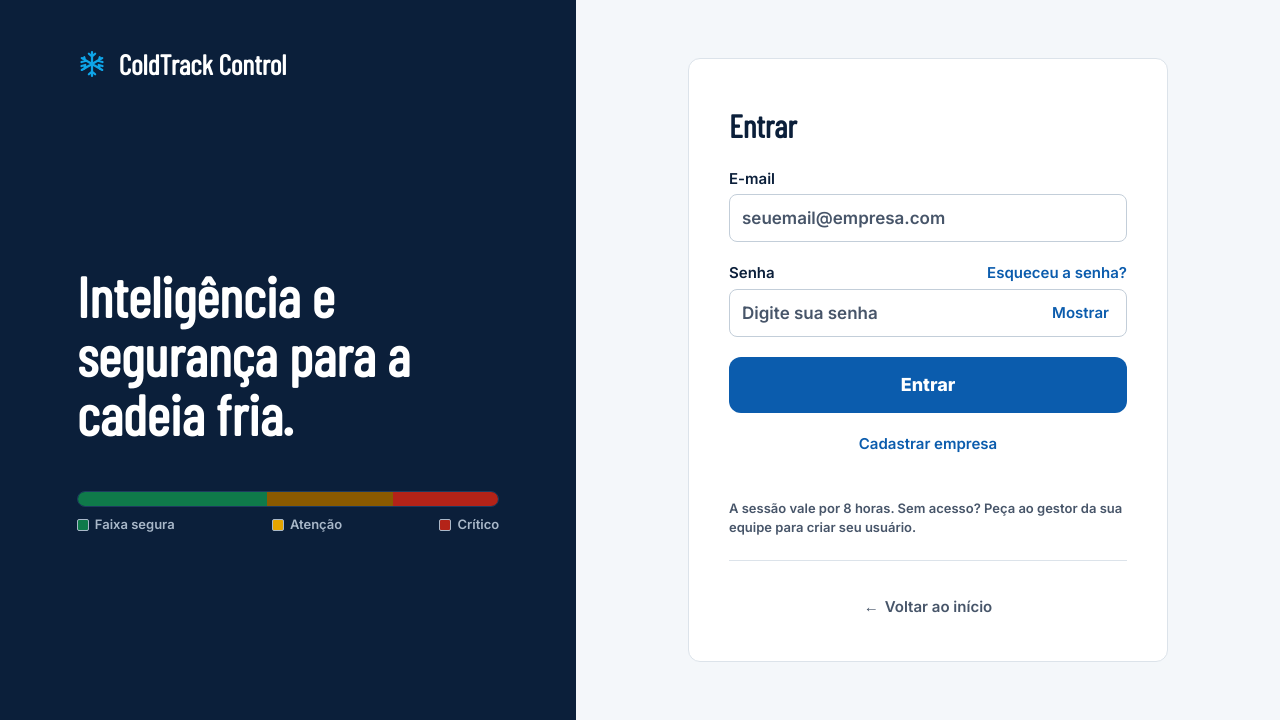
Test: Login › senha vazia: pede a senha
Type "ana@empresa.com" into the field labelled "E-mail" at (928, 218), box top-left (729, 194), bottom-right (1127, 242)
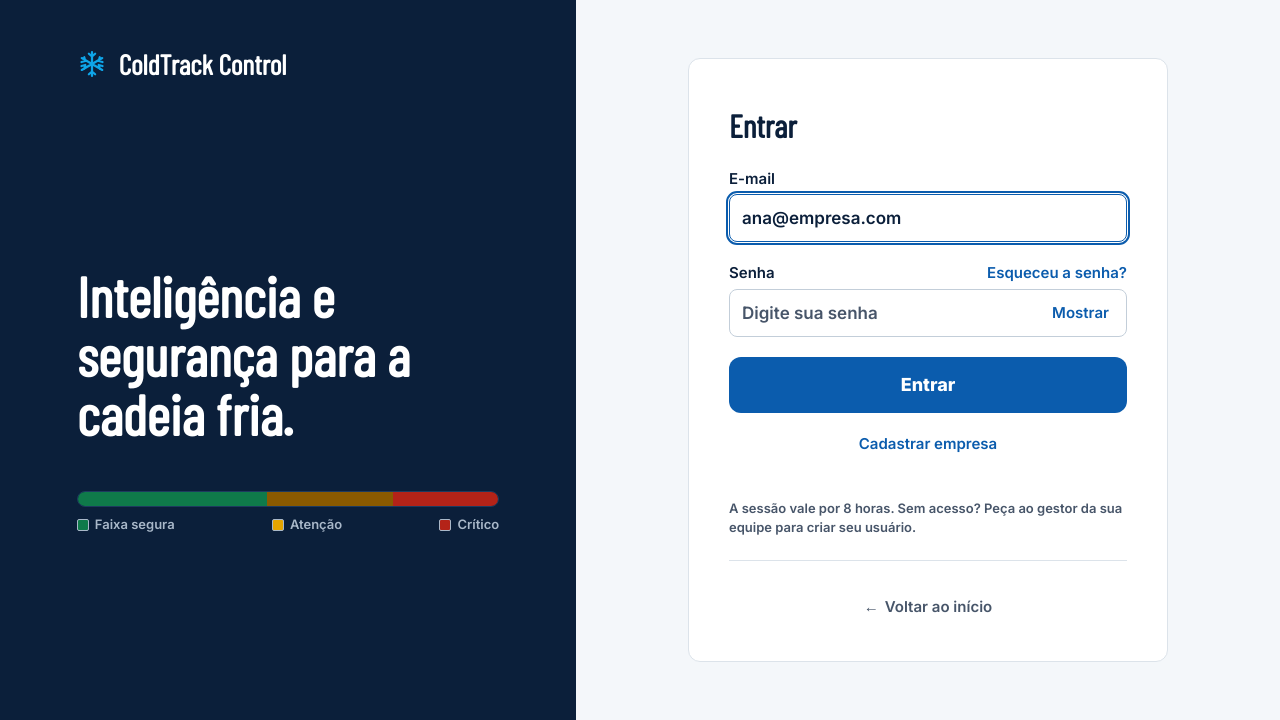
Click the button "Entrar" at (928, 385), box top-left (729, 357), bottom-right (1127, 413)
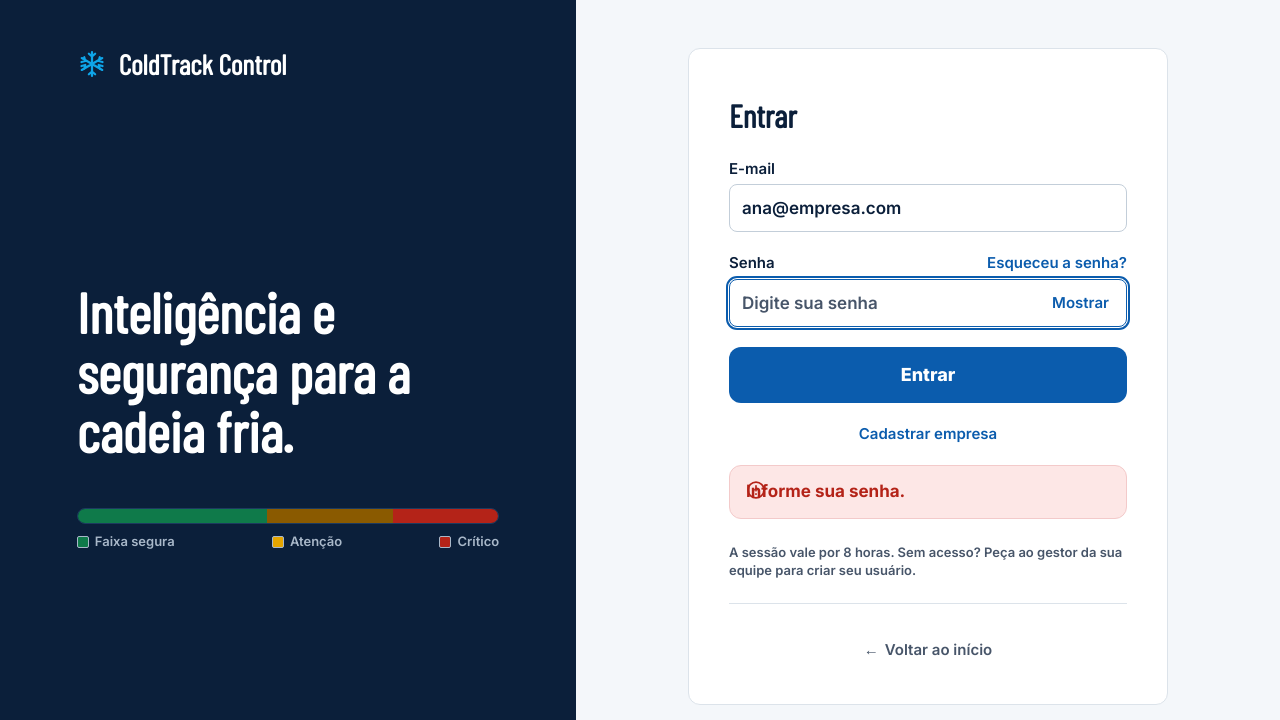
expect the message reads "Informe sua senha.": met, box top-left (746, 481), bottom-right (905, 501)
